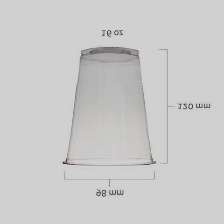glass: (56, 45, 164, 172)
